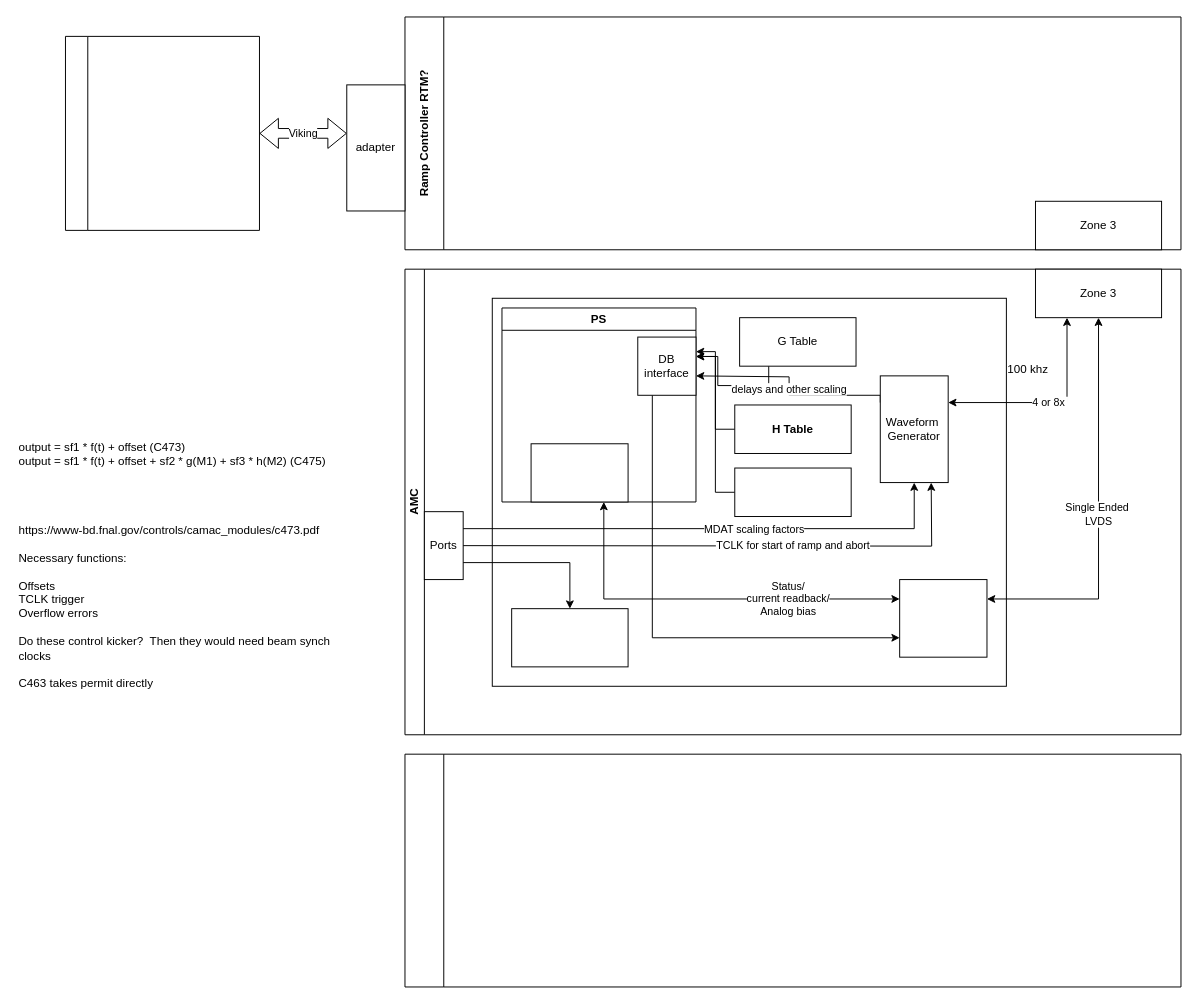
The diagram is 1198 pixels wide and 1004 high, and some of its shapes have lost their labels. Here are the shapes that lost their labels. From the top down, the centre of each, then its label:
the point at 162,132: Magnet Thing?
the point at 579,472: DAQ
the point at 792,492: F Table
the point at 569,637: Abort Interface
the point at 943,618: Digital IO
the point at 792,870: MCH
